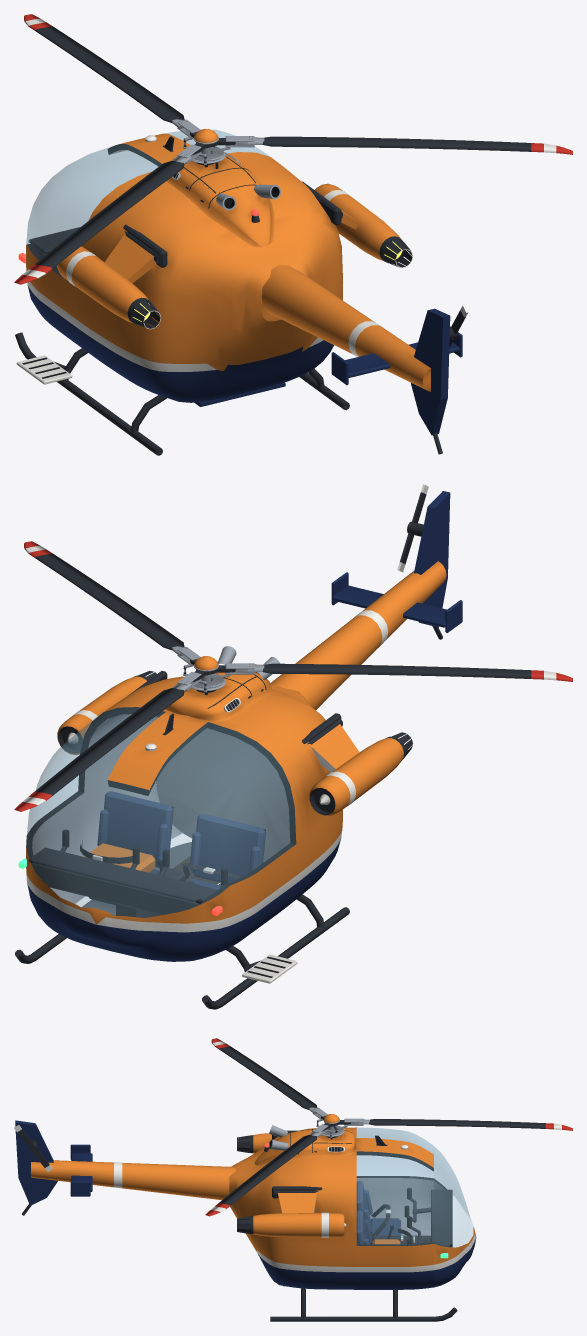
Rendered from helicopter_boarding.glb.
The picture shows the model from 3 angles, top to bottom: view 1: azimuth 30°, elevation 25°; view 2: azimuth 150°, elevation 25°; view 3: azimuth 270°, elevation 25°; orthographic projection. The views are drawn at different scales.
Parts seen in each view (by area): view 1: Body, Door_L, MainRotorBlades, Windows, JetPod_L, FrameAndSkids, JetPod_R, MainRotor, Step_L, Interior, JetNozzle_L, JetNozzle_R; view 2: Body, Windows, Interior, Door_L, MainRotorBlades, Door_R, JetPod_L, Seat_L, Seat_R, FrameAndSkids, JetPod_R, MainRotor (+2 smaller); view 3: Body, Door_R, Door_L, MainRotorBlades, JetPod_R, Windows, FrameAndSkids, Interior, Seat_L, MainRotor, Seat_R, TailRotor.
Boxes of the visible parts, box(x1,y1,x2,y2) form: Body: box(26, 133, 462, 454); Door_L: box(26, 144, 161, 357); MainRotorBlades: box(14, 14, 572, 284); Windows: box(26, 136, 195, 244); JetPod_L: box(57, 231, 159, 325); FrameAndSkids: box(15, 181, 349, 455); JetPod_R: box(315, 183, 405, 263); MainRotor: box(172, 119, 264, 164); Step_L: box(16, 355, 72, 384); Interior: box(28, 227, 80, 268); JetNozzle_L: box(131, 300, 160, 329); JetNozzle_R: box(383, 239, 412, 267); Body: box(26, 491, 462, 961); Windows: box(26, 777, 229, 917); Interior: box(28, 716, 290, 918); Door_L: box(150, 722, 296, 955); MainRotorBlades: box(14, 541, 572, 811); Door_R: box(27, 707, 164, 897); JetPod_L: box(307, 718, 405, 816); Seat_L: box(189, 813, 265, 889); Seat_R: box(89, 791, 173, 905); FrameAndSkids: box(15, 671, 349, 1009); JetPod_R: box(57, 675, 149, 754); MainRotor: box(172, 646, 264, 692); Body: box(15, 1120, 476, 1289); Door_R: box(356, 1151, 433, 1288); Door_L: box(356, 1127, 433, 1230); MainRotorBlades: box(205, 1038, 572, 1216); JetPod_R: box(249, 1190, 346, 1237); Windows: box(434, 1146, 472, 1247); FrameAndSkids: box(270, 1130, 457, 1321); Interior: box(356, 1189, 452, 1246); Seat_L: box(356, 1180, 400, 1244); MainRotor: box(309, 1107, 369, 1137); Seat_R: box(356, 1210, 372, 1244); TailRotor: box(14, 1125, 52, 1171).
Size of the model in its own units: 9.24 by 4.3 by 12.28.
